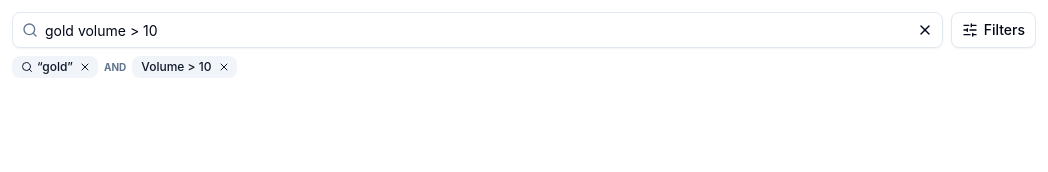
Scenario: DataTableFiltering › removes a chip and rewrites the search text
Click the button named "Remove filter “gold”": coordinates (85, 67) [77, 59, 93, 75]
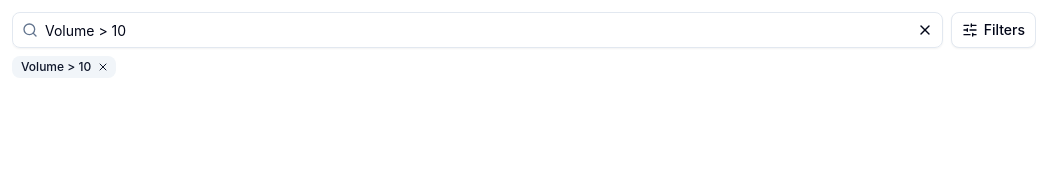
Now the field named "Search and filter" holds "Volume > 10", box [12, 12, 943, 48]
